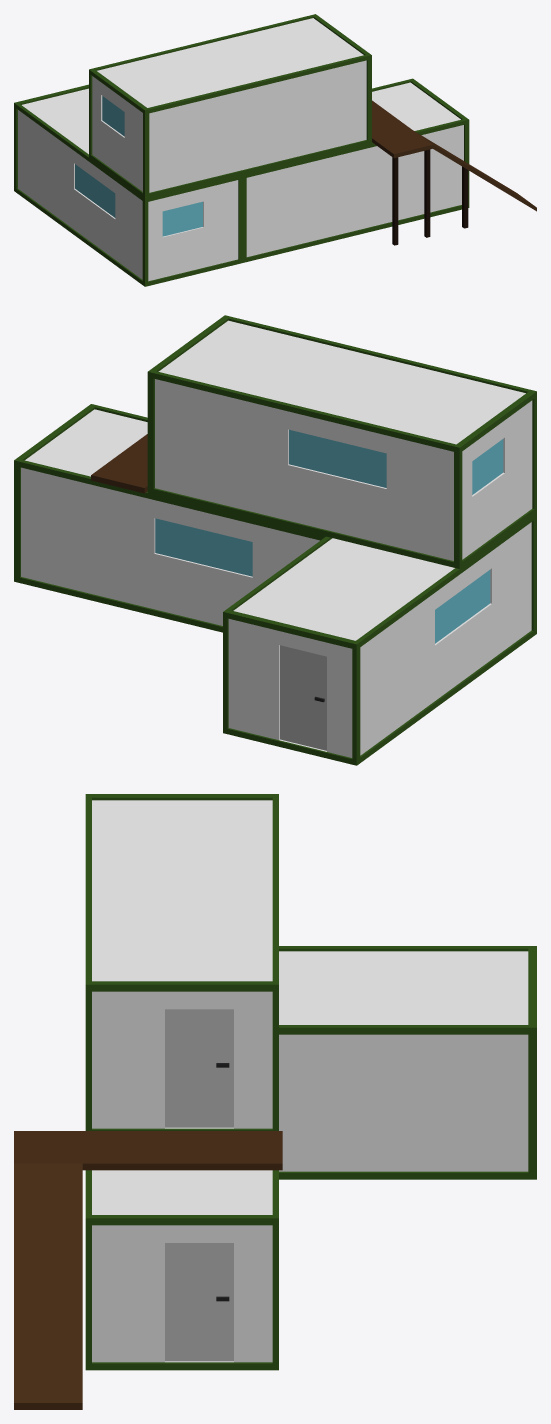
File: office_stack.glb
3 views of the same model, one above another, from view 1: azimuth 30°, elevation 25°; view 2: azimuth 150°, elevation 25°; view 3: azimuth 270°, elevation 25° (orthographic). The views are drawn at different scales.
Parts seen in each view (by area): view 1: Office_Container_Stack; view 2: Office_Container_Stack; view 3: Office_Container_Stack.
Part boxes in pixels (x1=…): Office_Container_Stack: x1=14, y1=14, x2=536, y2=286; Office_Container_Stack: x1=14, y1=315, x2=536, y2=765; Office_Container_Stack: x1=14, y1=794, x2=536, y2=1409.
Size of the model in its own units: 11.5 by 5.22 by 8.15.
Materials: 1 (1 with a texture image).
